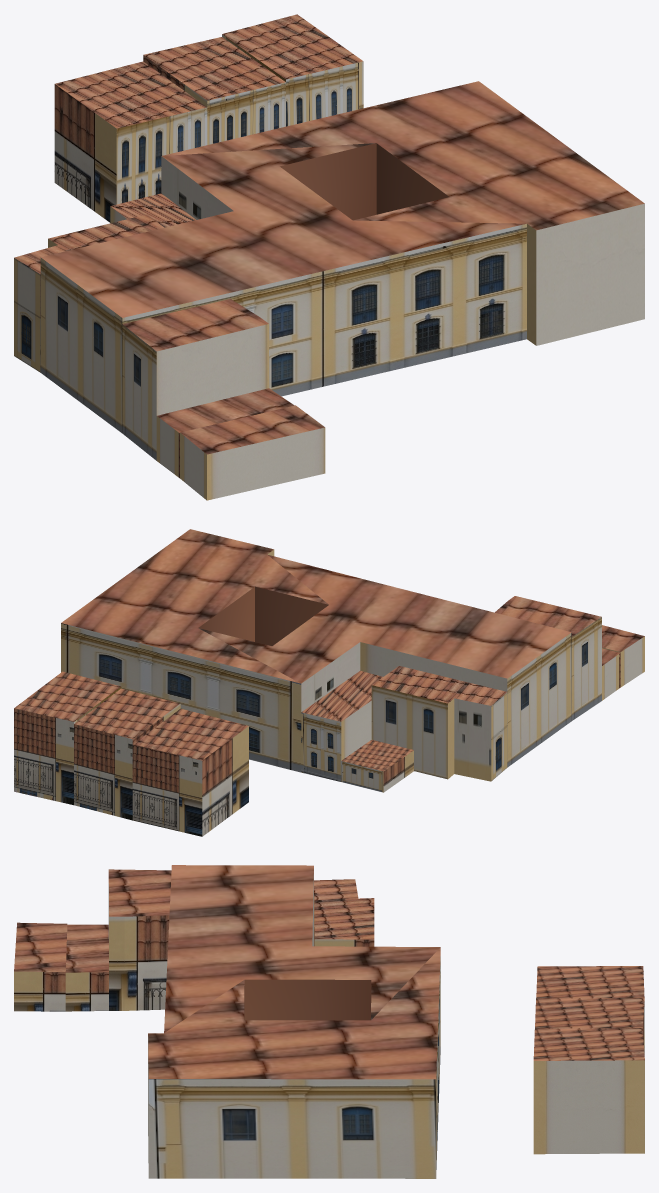
The model's file is Edificios_ECCI.fbx.
3 renders of one model, top to bottom at view 1: azimuth 30°, elevation 25°; view 2: azimuth 150°, elevation 25°; view 3: azimuth 270°, elevation 25°, orthographic. The views are drawn at different scales.
Parts seen in each view (by area): view 1: map_2.osm_buildings.115, map_2.osm_buildings.002, map_2.osm_buildings.092, map_2.osm_buildings.090, map_2.osm_buildings.001, map_2.osm_buildings, map_2.osm_buildings.040, map_2.osm_buildings.091, map_2.osm_buildings.102; view 2: map_2.osm_buildings.115, map_2.osm_buildings.002, map_2.osm_buildings.040, map_2.osm_buildings, map_2.osm_buildings.001, map_2.osm_buildings.102, map_2.osm_buildings.092, map_2.osm_buildings.004, map_2.osm_buildings.090, map_2.osm_buildings.091; view 3: map_2.osm_buildings.115, map_2.osm_buildings, map_2.osm_buildings.092, map_2.osm_buildings.090, map_2.osm_buildings.040, map_2.osm_buildings.091, map_2.osm_buildings.002, map_2.osm_buildings.001.
Boxes of the visible parts, left/top/right/bottom form: map_2.osm_buildings.115: left=40, top=81, right=644, bottom=432; map_2.osm_buildings.002: left=54, top=61, right=207, bottom=222; map_2.osm_buildings.092: left=122, top=299, right=268, bottom=460; map_2.osm_buildings.090: left=180, top=405, right=325, bottom=500; map_2.osm_buildings.001: left=143, top=37, right=285, bottom=144; map_2.osm_buildings: left=222, top=14, right=363, bottom=126; map_2.osm_buildings.040: left=14, top=214, right=163, bottom=372; map_2.osm_buildings.091: left=156, top=388, right=294, bottom=478; map_2.osm_buildings.102: left=110, top=193, right=195, bottom=227; map_2.osm_buildings.115: left=61, top=529, right=571, bottom=772; map_2.osm_buildings.002: left=132, top=708, right=248, bottom=836; map_2.osm_buildings.040: left=371, top=666, right=507, bottom=781; map_2.osm_buildings: left=14, top=671, right=121, bottom=805; map_2.osm_buildings.001: left=74, top=688, right=180, bottom=820; map_2.osm_buildings.102: left=301, top=670, right=382, bottom=781; map_2.osm_buildings.092: left=495, top=596, right=601, bottom=720; map_2.osm_buildings.004: left=341, top=739, right=413, bottom=792; map_2.osm_buildings.090: left=602, top=625, right=644, bottom=687; map_2.osm_buildings.091: left=602, top=648, right=620, bottom=700; map_2.osm_buildings.115: left=148, top=865, right=440, bottom=1178; map_2.osm_buildings: left=533, top=1028, right=644, bottom=1154; map_2.osm_buildings.092: left=108, top=869, right=171, bottom=1010; map_2.osm_buildings.090: left=14, top=922, right=67, bottom=1011; map_2.osm_buildings.040: left=314, top=879, right=374, bottom=946; map_2.osm_buildings.091: left=65, top=924, right=108, bottom=1011; map_2.osm_buildings.002: left=536, top=966, right=644, bottom=998; map_2.osm_buildings.001: left=535, top=998, right=644, bottom=1052.
Bounding box in the file's own units: 9088 × 1948 × 11197.
